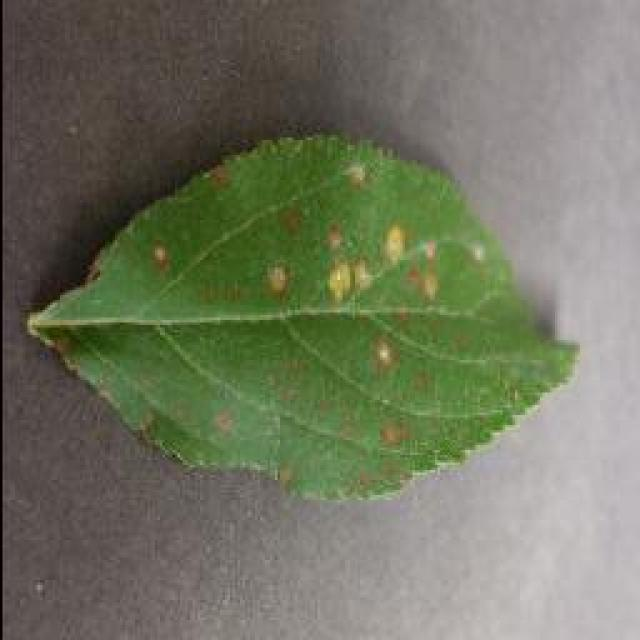apple cedar apple rust: (25, 130, 580, 505)
